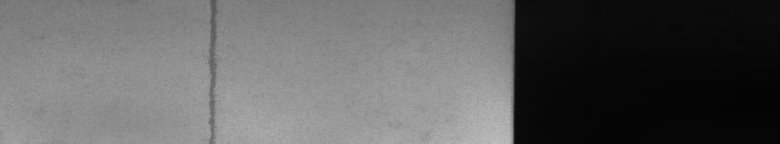hd: (200, 4, 223, 136)
